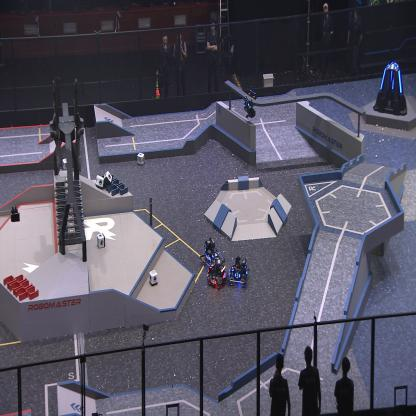car: (206, 255, 226, 289), (229, 257, 249, 288), (200, 238, 221, 267)
